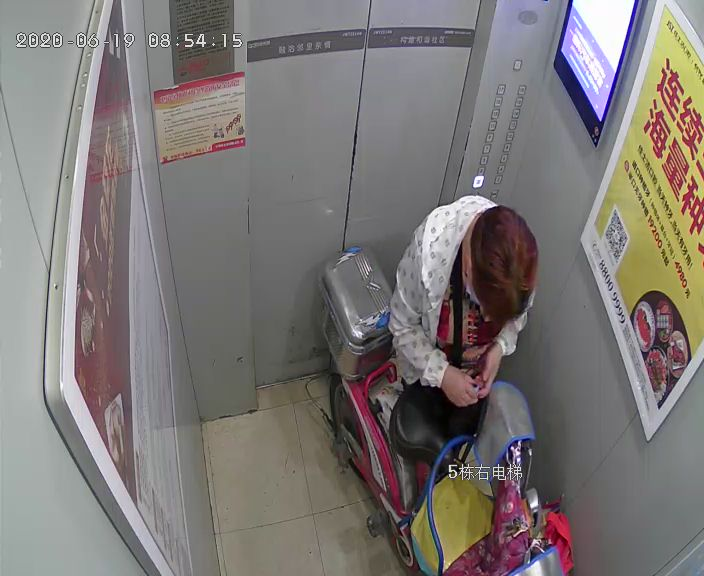Electric-bicycle: (318, 247, 563, 576)
